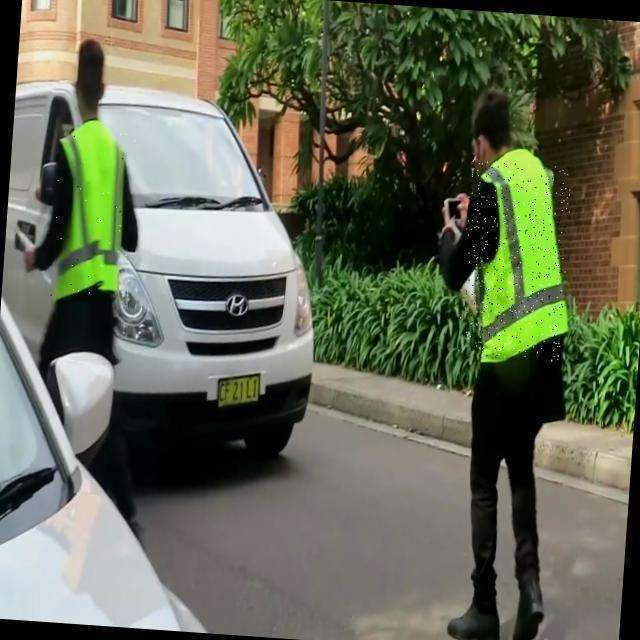safety_helmet: (92, 181, 516, 261)
